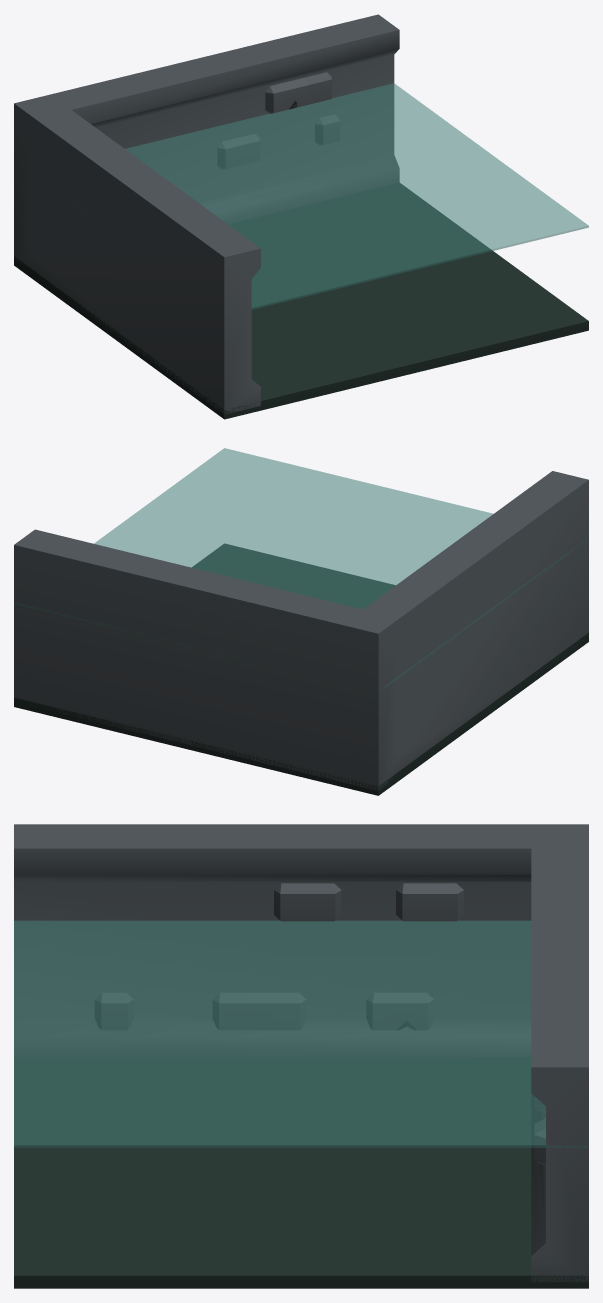
The model's file is floor_pool_corner_B.glb.
The picture shows the model from 3 angles, top to bottom: view 1: azimuth 30°, elevation 25°; view 2: azimuth 150°, elevation 25°; view 3: azimuth 270°, elevation 25°; orthographic projection. The views are drawn at different scales.
Visible parts, largest first — view 1: Item; view 2: Item; view 3: Item.
Boxes of the visible parts, x1,y1,x2,y2 form: Item: (14, 14, 588, 419); Item: (14, 448, 588, 795); Item: (14, 824, 588, 1288).
Size of the model in its own units: 4 by 1.7 by 4.
Materials: 3 (3 with a texture image).
